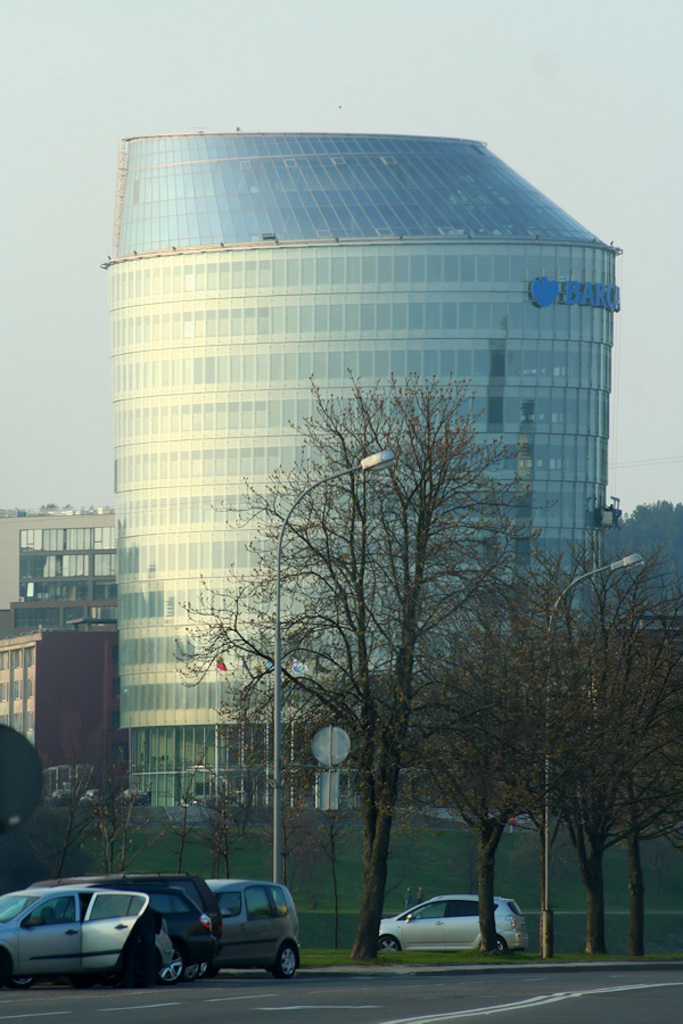Car: (0, 887, 174, 996), (33, 871, 224, 946), (112, 879, 216, 986), (206, 877, 306, 975), (379, 896, 530, 956)
